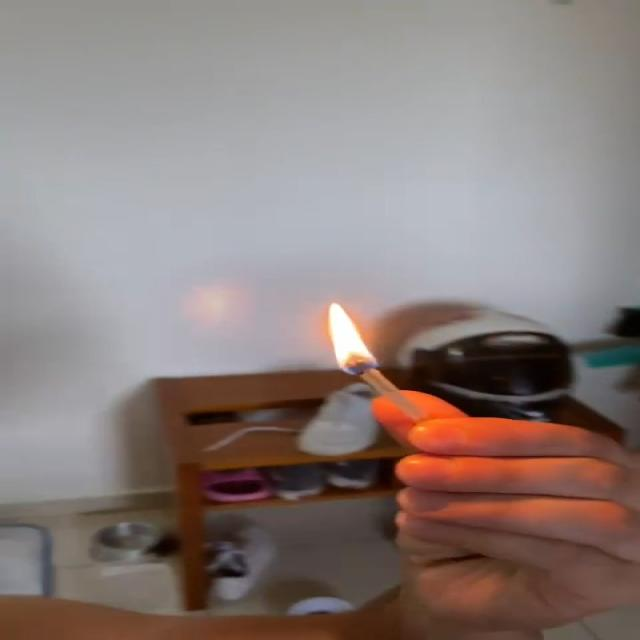fogo-ypXI: (326, 301, 382, 376)
